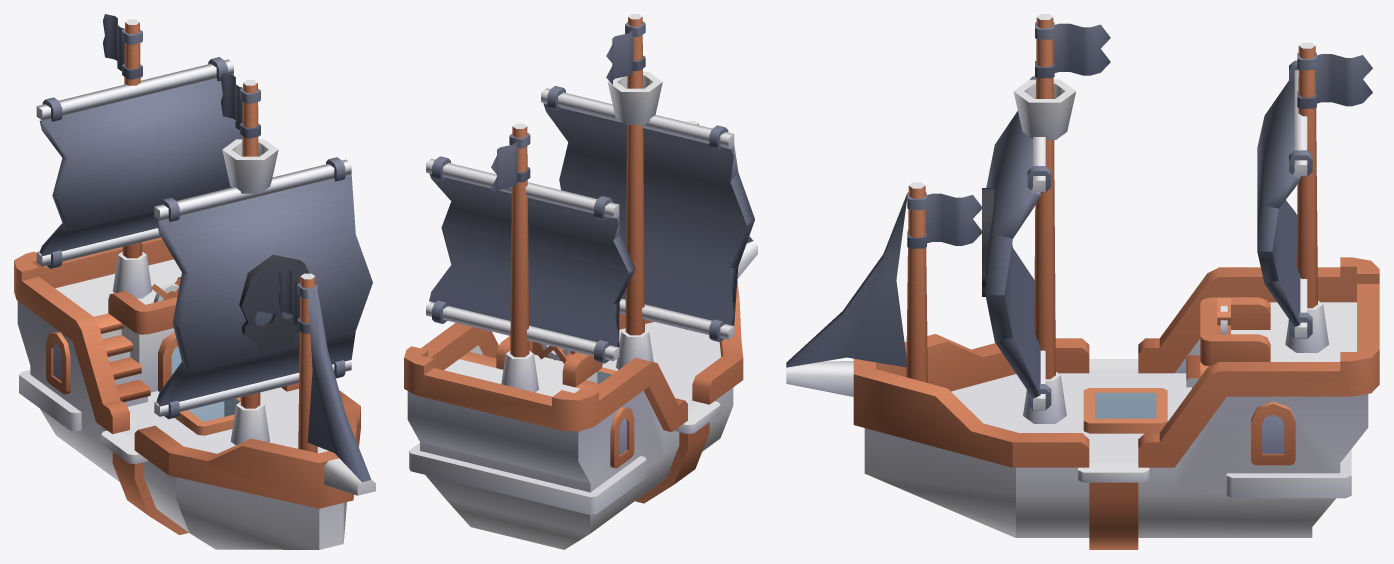
File: pirate-ship.glb
3 views of the same model, side by side, from view 1: azimuth 30°, elevation 25°; view 2: azimuth 150°, elevation 25°; view 3: azimuth 270°, elevation 25° (orthographic). The views are drawn at different scales.
Visible parts, largest first — view 1: ship-pirate-medium, sail-a, sail-b, flag-b, flag-c, flag-a; view 2: ship-pirate-medium, sail-a, sail-b, flag-c, flag-b; view 3: ship-pirate-medium, sail-a, sail-b, flag-b, flag-c, flag-a.
Boxes of the visible parts, x1,y1,x2,y2 form: ship-pirate-medium: (14, 19, 375, 549); sail-a: (154, 157, 372, 419); sail-b: (36, 57, 242, 268); flag-b: (220, 73, 260, 138); flag-c: (103, 14, 142, 79); flag-a: (278, 268, 318, 333); ship-pirate-medium: (404, 14, 757, 549); sail-a: (541, 86, 754, 341); sail-b: (426, 156, 635, 363); flag-c: (491, 133, 530, 196); flag-b: (606, 21, 645, 84); ship-pirate-medium: (786, 14, 1379, 549); sail-a: (982, 76, 1051, 410); sail-b: (1257, 60, 1312, 338); flag-b: (1035, 22, 1110, 78); flag-c: (1297, 52, 1372, 108); flag-a: (907, 192, 981, 248).
Size of the model in its own units: 4.8 by 9.96 by 10.6.
1 material, 1 textured.
